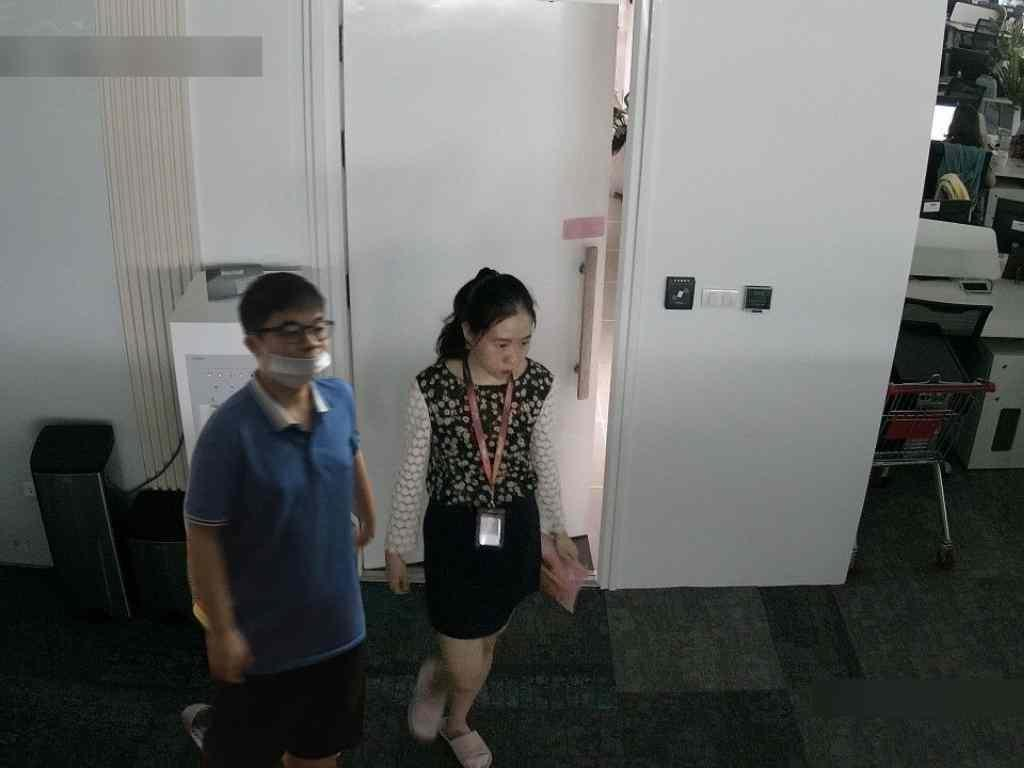no_apron: (373, 523, 447, 613), (194, 620, 278, 692)
no_gloves: (420, 236, 555, 383), (224, 270, 358, 354)
no_hairnet: (250, 303, 342, 388), (470, 302, 542, 381)
